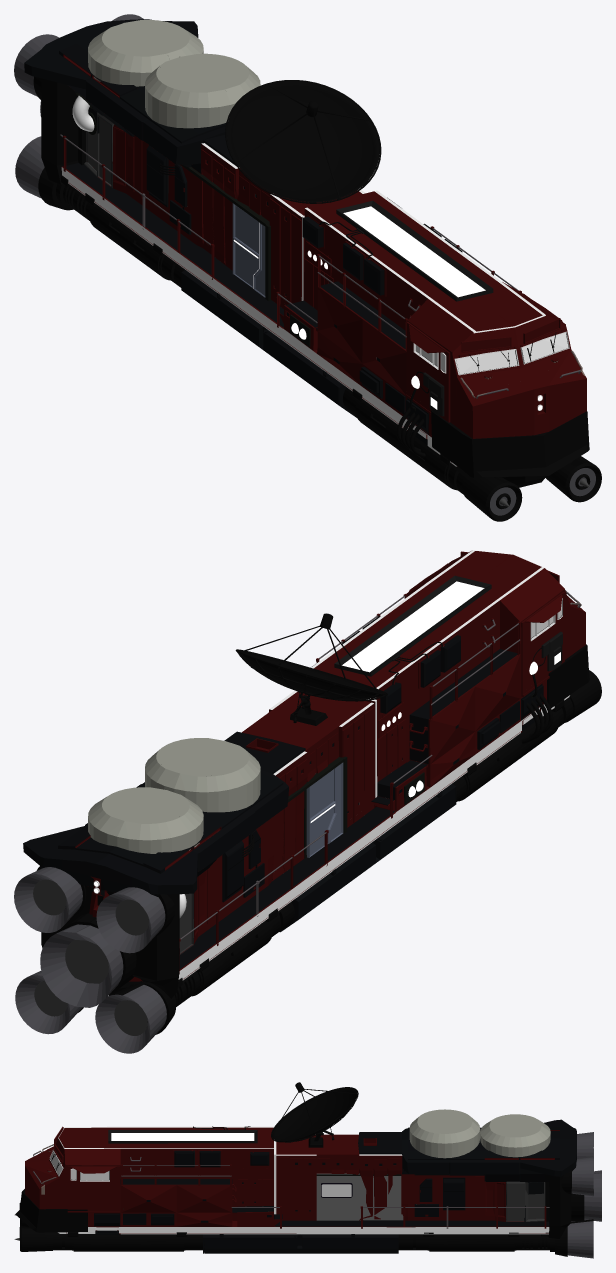
File: SpaceTrainV1.glb
The picture shows the model from 3 angles, top to bottom: view 1: azimuth 30°, elevation 25°; view 2: azimuth 150°, elevation 25°; view 3: azimuth 270°, elevation 25°; orthographic projection. The views are drawn at different scales.
Parts seen in each view (by area): view 1: Train, Boosters, Antena, Panel, DoorRight, Cables, Doorframe; view 2: Train, Boosters, Panel, Antena, DoorRight, Cables, Doorframe, DoorLeft; view 3: Train, Boosters, Antena, WallRight, Panel, Window.
Boxes of the visible parts, box(x1,y1,x2,y2) form: Train: box(24, 19, 586, 466); Boosters: box(14, 14, 601, 521); Antena: box(225, 80, 381, 203); Panel: box(336, 200, 493, 301); DoorRight: box(232, 203, 259, 288); Cables: box(159, 163, 429, 457); Doorframe: box(181, 164, 271, 301); Train: box(23, 550, 585, 981); Boosters: box(14, 644, 601, 1053); Panel: box(334, 575, 491, 676); Antena: box(235, 613, 387, 725); DoorRight: box(306, 767, 336, 857); Cables: box(242, 641, 553, 868); Doorframe: box(288, 756, 347, 858); DoorLeft: box(330, 762, 343, 842); Train: box(25, 1119, 576, 1253); Boosters: box(14, 1109, 601, 1258); Antena: box(271, 1082, 358, 1147); WallRight: box(316, 1173, 416, 1220); Panel: box(108, 1130, 257, 1143); Window: box(321, 1183, 352, 1197).
Bounding box in the file's own units: 30.54 × 44.16 × 147.
